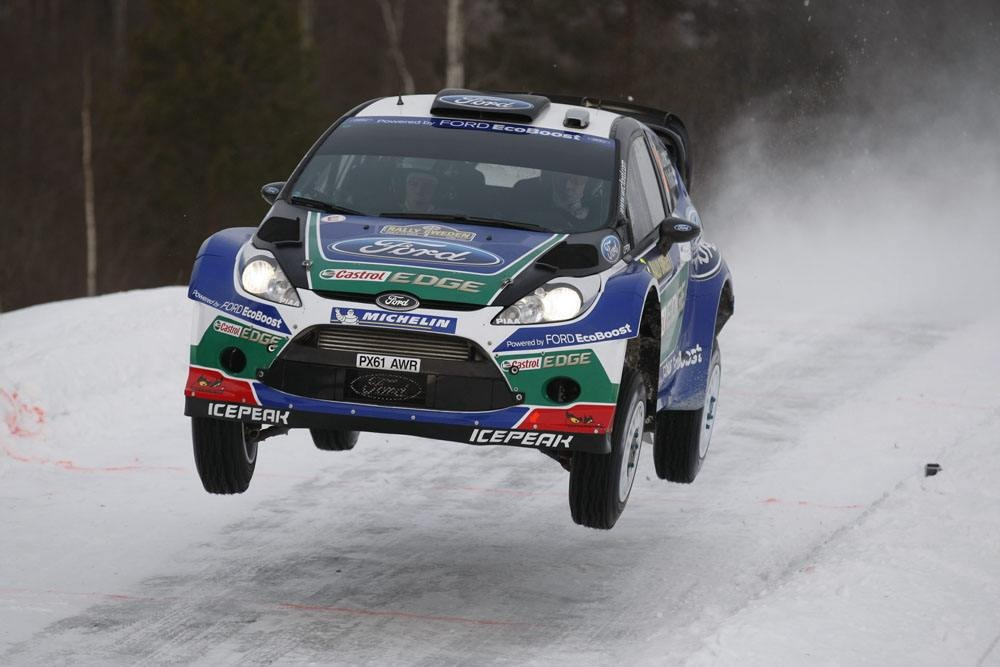racing car: (169, 62, 752, 532)
